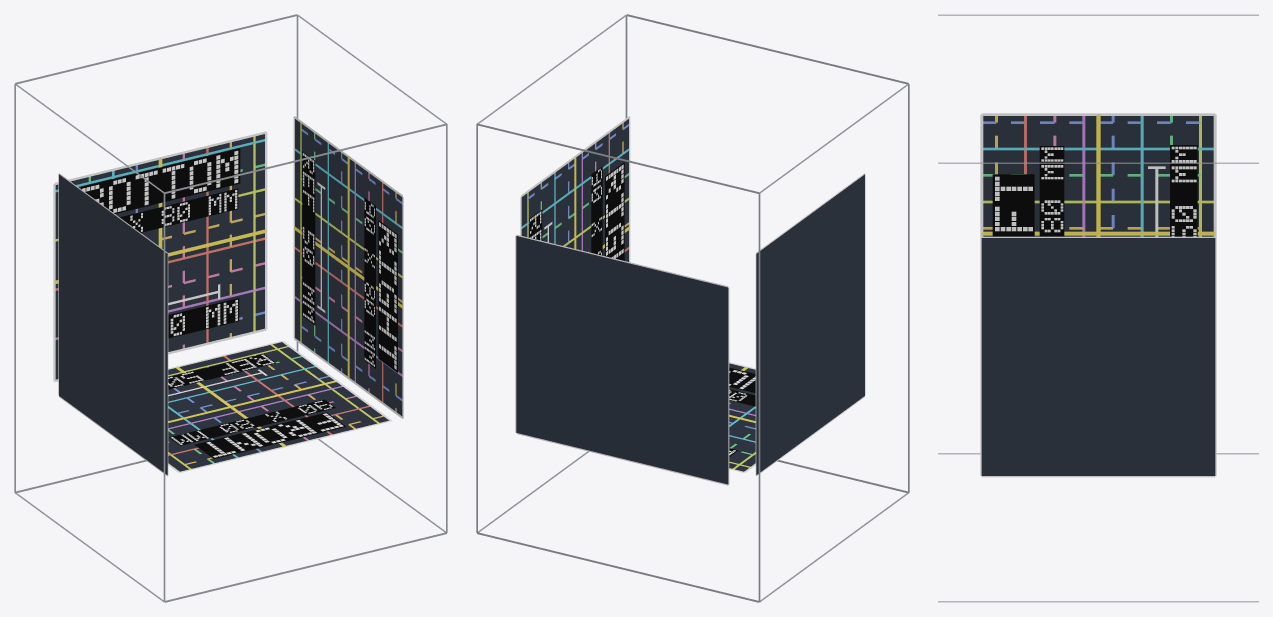
The model's file is rig_geometry_grid.glb.
The picture shows the model from 3 angles, left to right: view 1: azimuth 30°, elevation 25°; view 2: azimuth 150°, elevation 25°; view 3: azimuth 270°, elevation 25°; orthographic projection. The views are drawn at different scales.
Size of the model in its own units: 121 by 167 by 110.
